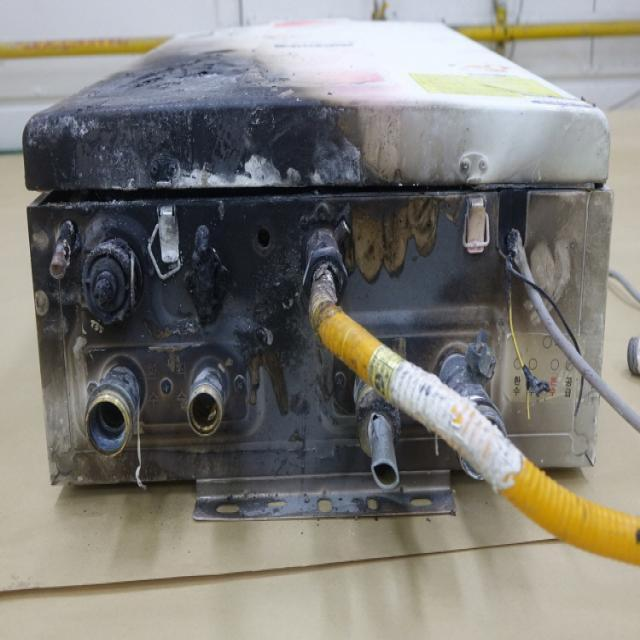Boiler: (10, 0, 640, 572)
